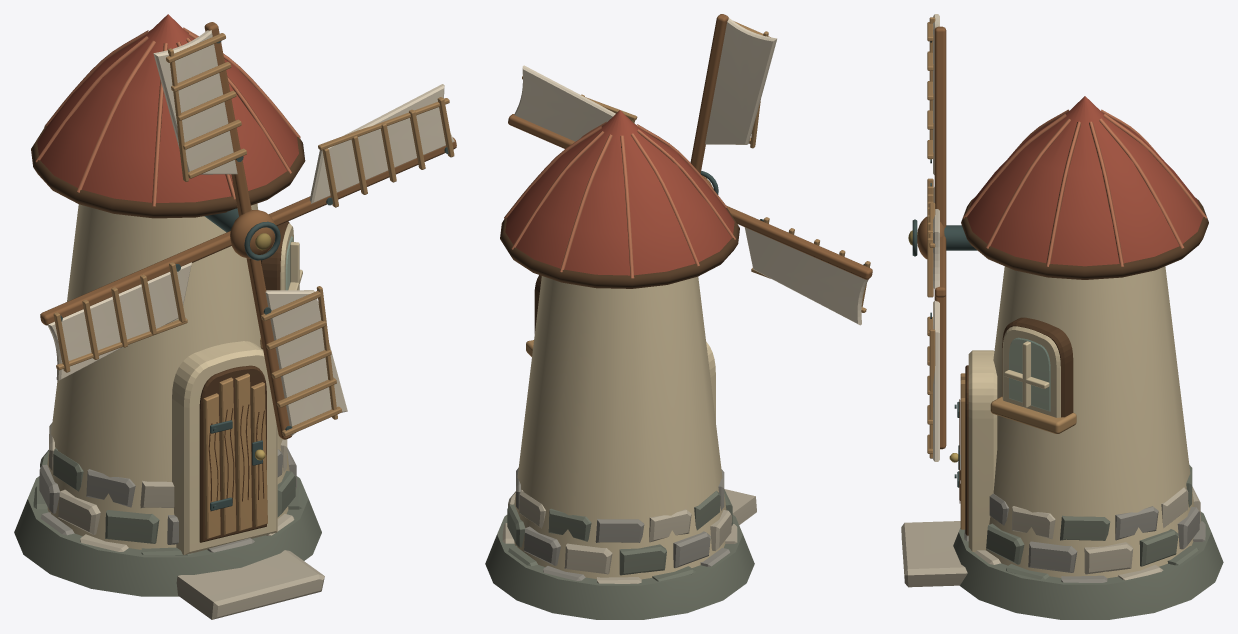
File: molino.glb
3 renders of one model, left to right at view 1: azimuth 30°, elevation 25°; view 2: azimuth 150°, elevation 25°; view 3: azimuth 270°, elevation 25°, orthographic. The views are drawn at different scales.
Parts seen in each view (by area): view 1: molino, mo_rotor; view 2: molino, mo_rotor; view 3: molino, mo_rotor, mo_ventana_vidrio.
Part boxes in pixels (x1,y1,x2,y2): molino: (14, 14, 324, 619); mo_rotor: (40, 22, 456, 439); molino: (485, 110, 756, 619); mo_rotor: (508, 14, 872, 325); molino: (901, 96, 1223, 619); mo_rotor: (908, 14, 946, 461); mo_ventana_vidrio: (1009, 338, 1050, 411).
Bounding box in the file's own units: 2.82 × 3.76 × 2.12.
